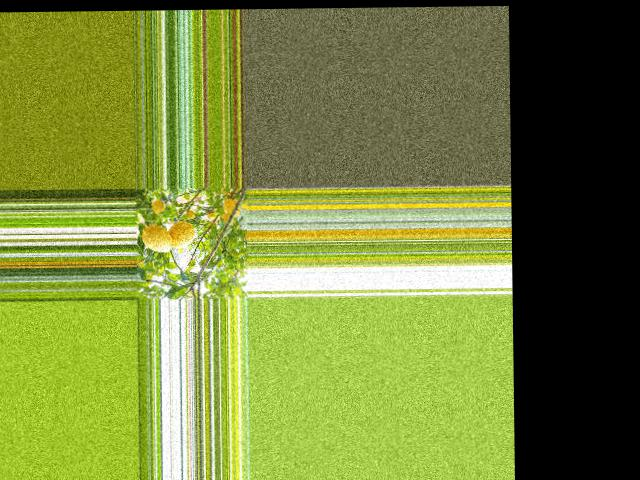lemon: (166, 217, 197, 251)
